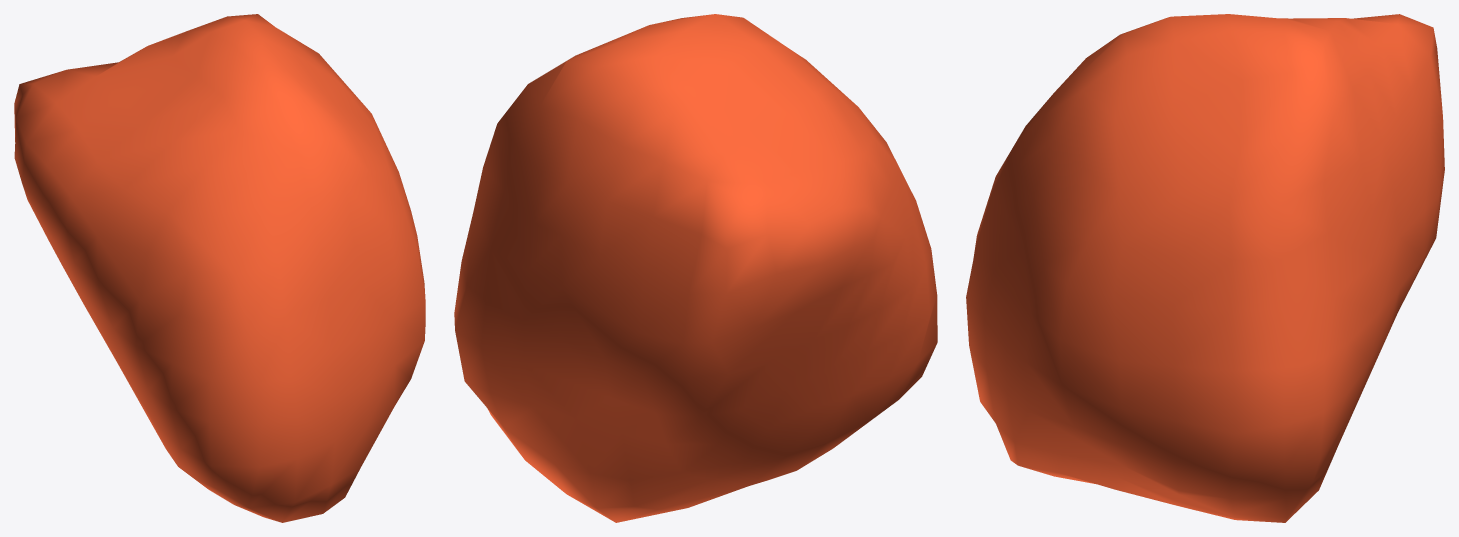
The picture shows the model from 3 angles, left to right: view 1: azimuth 30°, elevation 25°; view 2: azimuth 150°, elevation 25°; view 3: azimuth 270°, elevation 25°; orthographic projection. The views are drawn at different scales.
Visible parts, largest first — view 1: Roca14; view 2: Roca14; view 3: Roca14.
Boxes of the visible parts, <box> form: Roca14: <box>14,14,425,522</box>; Roca14: <box>454,14,937,522</box>; Roca14: <box>966,14,1444,522</box>.
Bounding box in the file's own units: 71.27 × 81.86 × 73.02.
